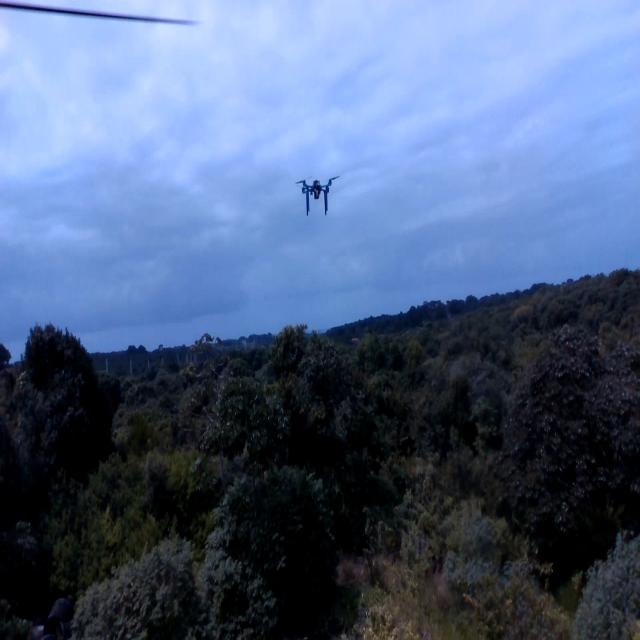-uav-: (289, 164, 345, 230)
